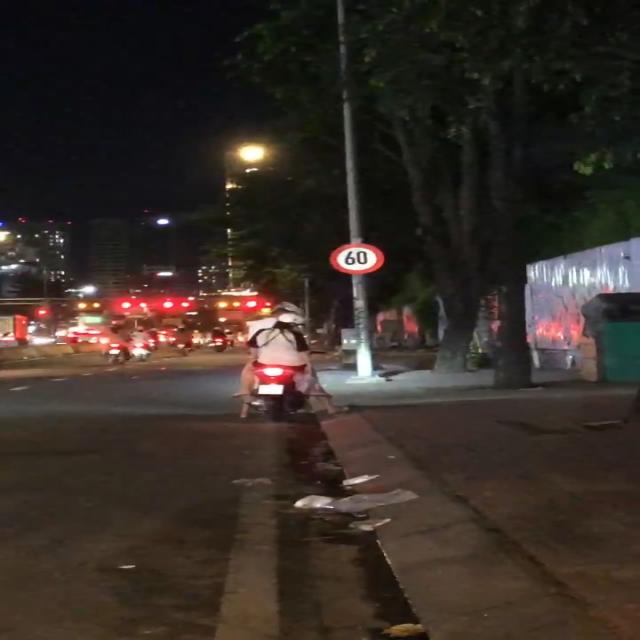Bien bao toc do toi da cho phep: (322, 239, 391, 277)
